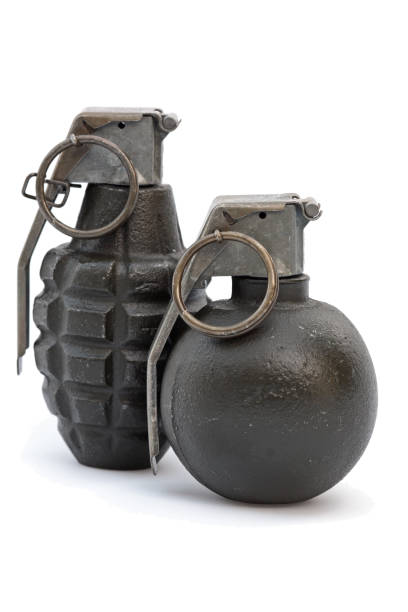e1: (148, 194, 377, 505), (8, 104, 188, 473)
